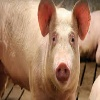heo: (37, 1, 92, 91)
